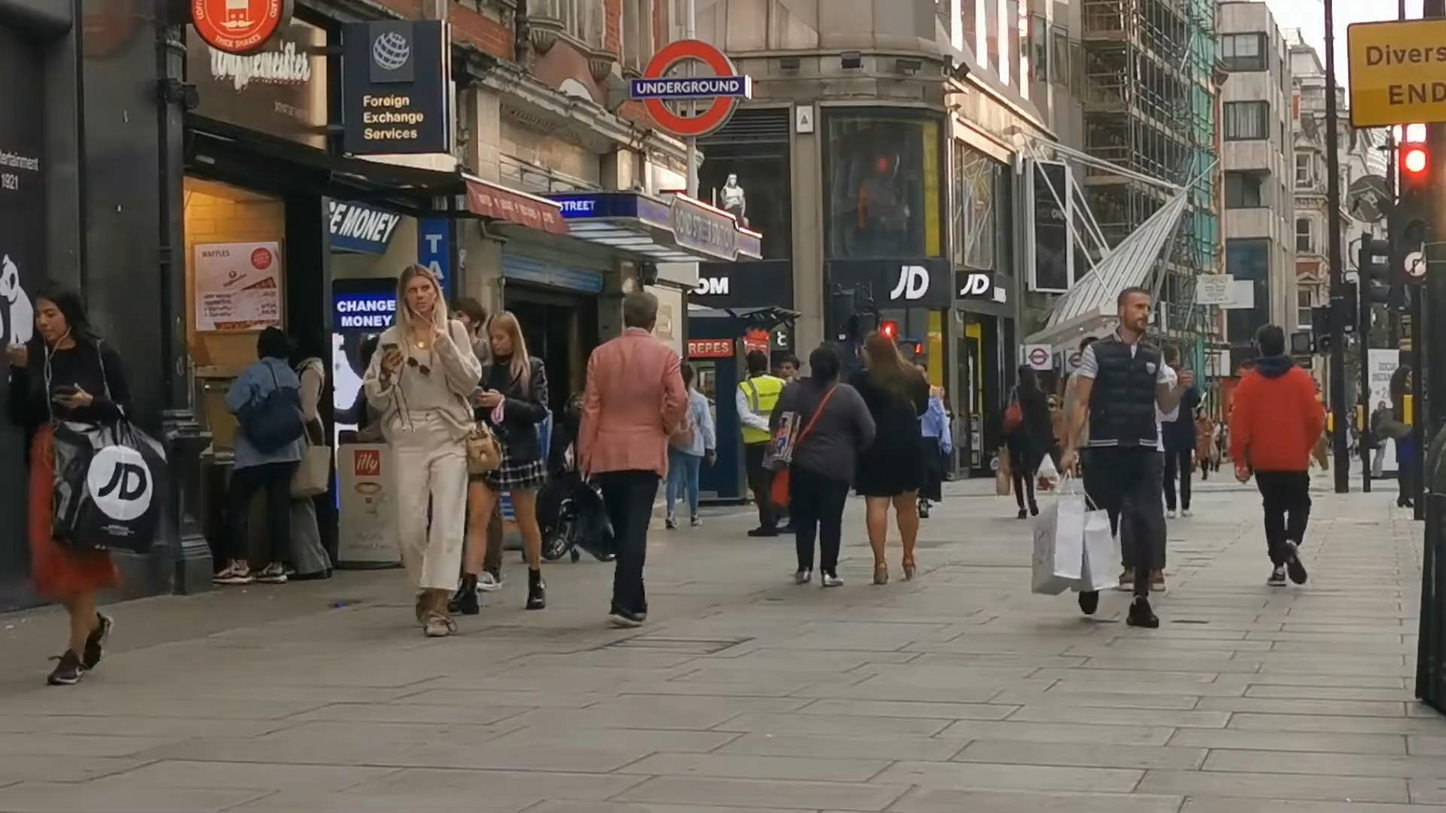no-helmet: (34, 283, 88, 345), (396, 263, 447, 315), (486, 312, 527, 355), (1117, 288, 1152, 334), (865, 332, 905, 372), (450, 297, 487, 336), (624, 292, 657, 333), (257, 325, 289, 361), (809, 346, 840, 382), (1256, 323, 1284, 361), (1018, 363, 1040, 390), (778, 354, 801, 379), (748, 349, 768, 375)
